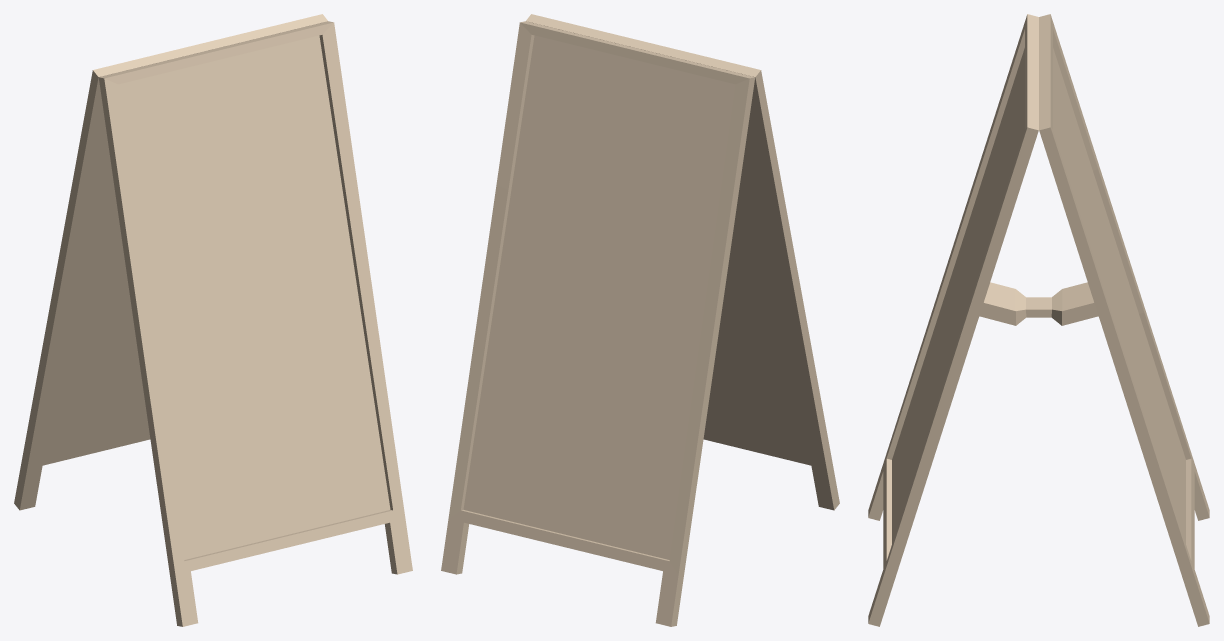
Rendered from panneauSol.fbx.
The picture shows the model from 3 angles, left to right: view 1: azimuth 30°, elevation 25°; view 2: azimuth 150°, elevation 25°; view 3: azimuth 270°, elevation 25°; orthographic projection.
Parts seen in each view (by area): view 1: PanneauSol; view 2: PanneauSol; view 3: PanneauSol.
Part boxes in pixels (x1,y1,x2,y2): PanneauSol: (14,14,412,626); PanneauSol: (441,14,839,626); PanneauSol: (868,14,1209,626).
Size of the model in its own units: 200 by 410 by 254.
